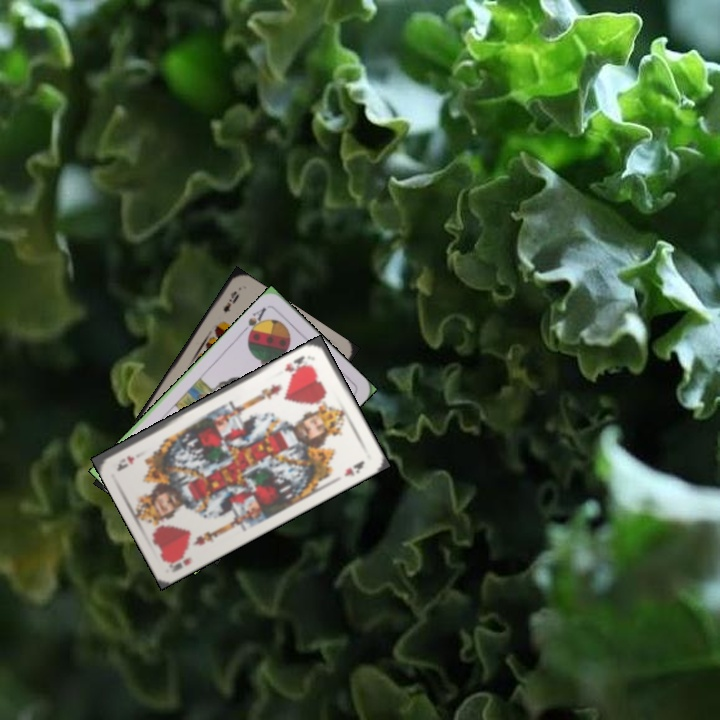E9: (219, 286, 242, 315)
HK: (280, 352, 314, 377), (164, 549, 194, 575)
SA: (238, 303, 269, 340)
